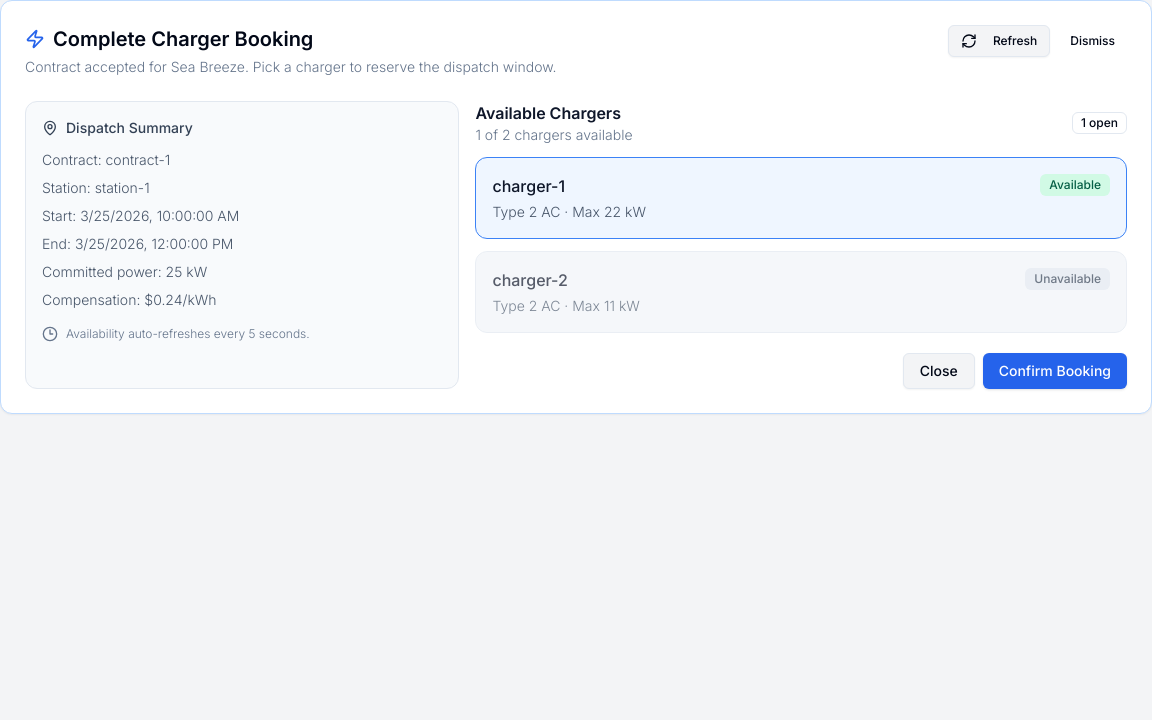
Test: ContractBookingFlow › submits a successful booking
Click the button "Confirm Booking". click: (1055, 371)
box: [983, 353, 1127, 389]
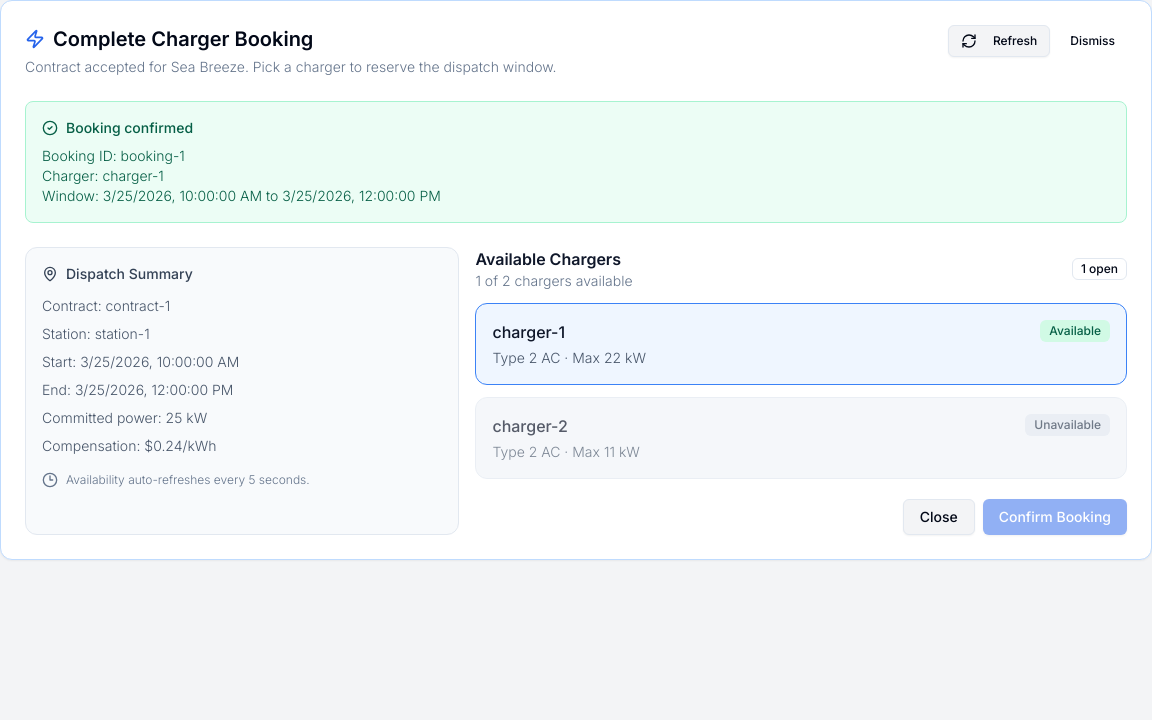
Result: the text "Booking confirmed" is shown at [42, 119, 193, 136]
